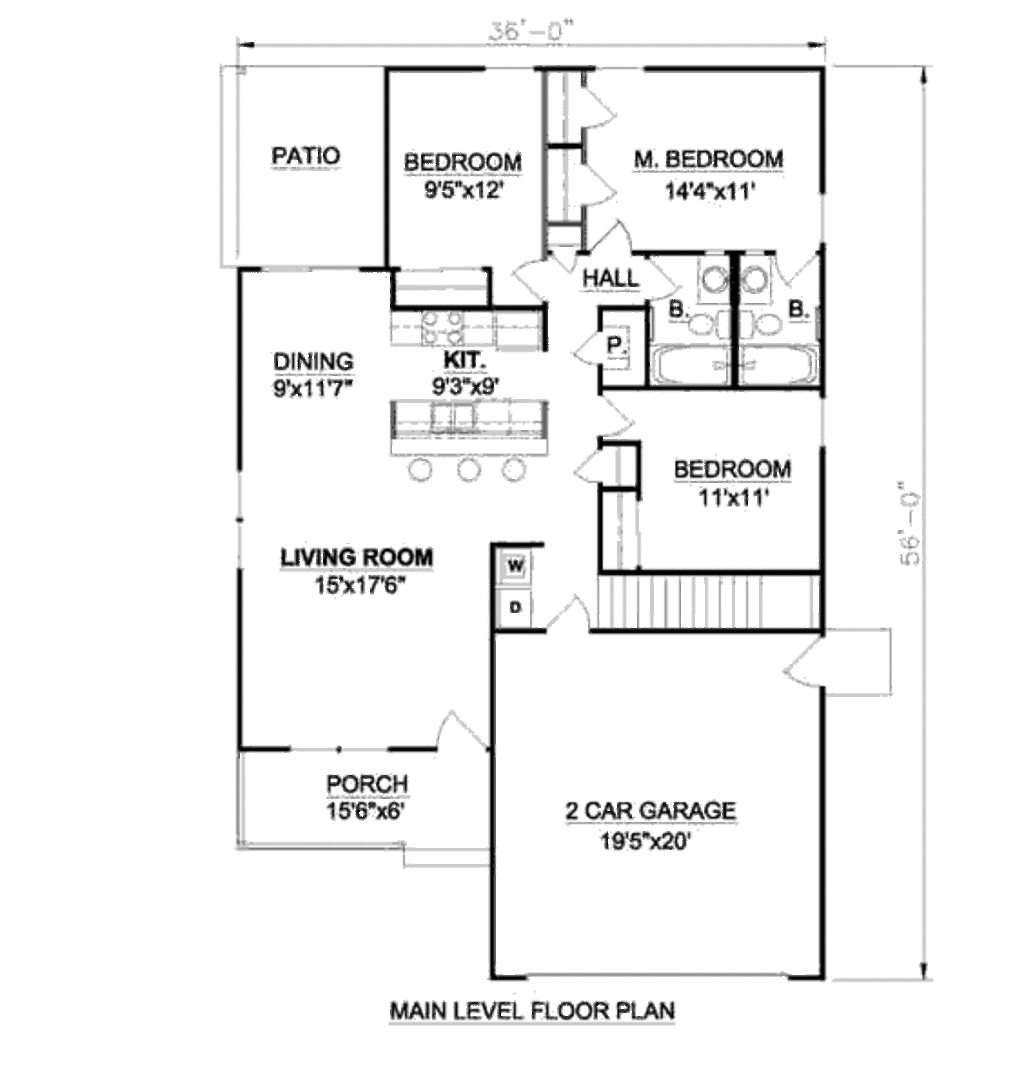door: (782, 624, 845, 692), (429, 705, 497, 762), (769, 244, 829, 294), (592, 390, 652, 439), (565, 439, 625, 485), (587, 207, 640, 257), (542, 589, 594, 639), (512, 247, 554, 302), (579, 84, 624, 135), (569, 157, 612, 209), (644, 255, 684, 307)
kitchen_bar: (390, 392, 550, 484)
large_sink: (732, 297, 794, 345), (679, 300, 740, 344)
small_sink: (694, 254, 729, 304), (735, 252, 769, 299)
stairs: (602, 565, 825, 634)
tub: (737, 332, 825, 385), (652, 350, 734, 387)
twin_sink: (429, 405, 495, 445)
window: (229, 470, 259, 574), (257, 257, 364, 279), (285, 744, 375, 764)
